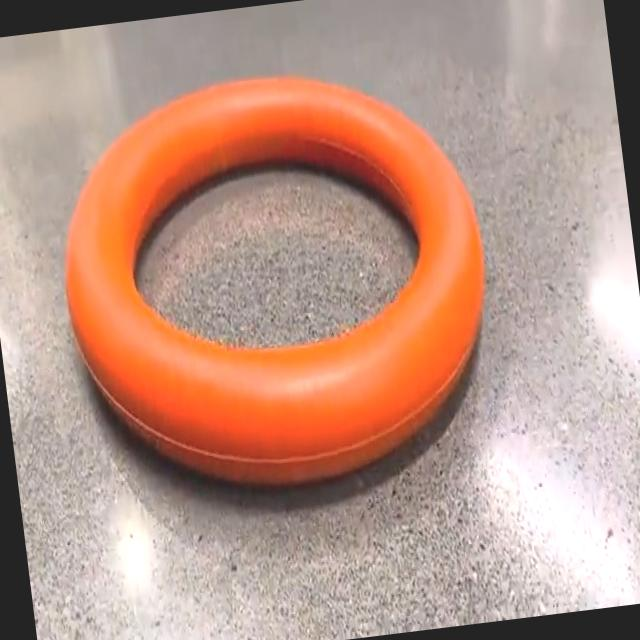note: (65, 77, 484, 484)
